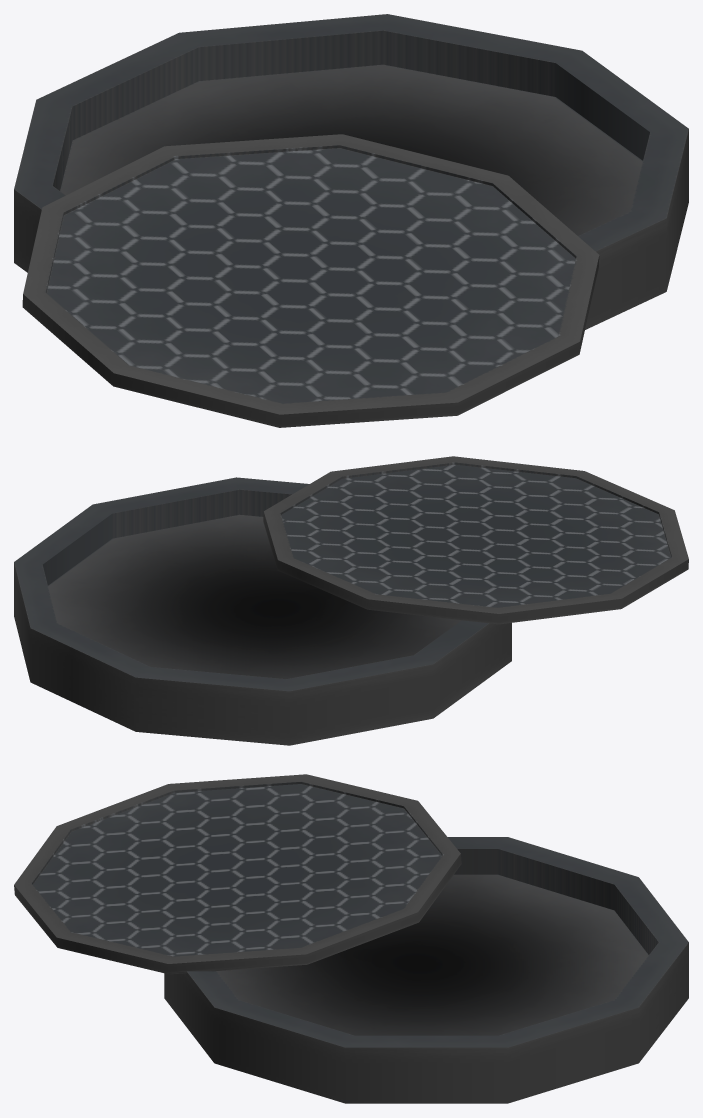
The model's file is Obstacle_hole_1.fbx.
The picture shows the model from 3 angles, top to bottom: view 1: azimuth 30°, elevation 25°; view 2: azimuth 150°, elevation 25°; view 3: azimuth 270°, elevation 25°; orthographic projection. The views are drawn at different scales.
Visible parts, largest first — view 1: Obstacle_hole _1; view 2: Obstacle_hole _1; view 3: Obstacle_hole _1.
Boxes of the visible parts, <box> form: Obstacle_hole _1: <box>14,14,688,427</box>; Obstacle_hole _1: <box>14,456,688,745</box>; Obstacle_hole _1: <box>14,774,688,1103</box>.
Size of the model in its own units: 157 by 23.82 by 174.
